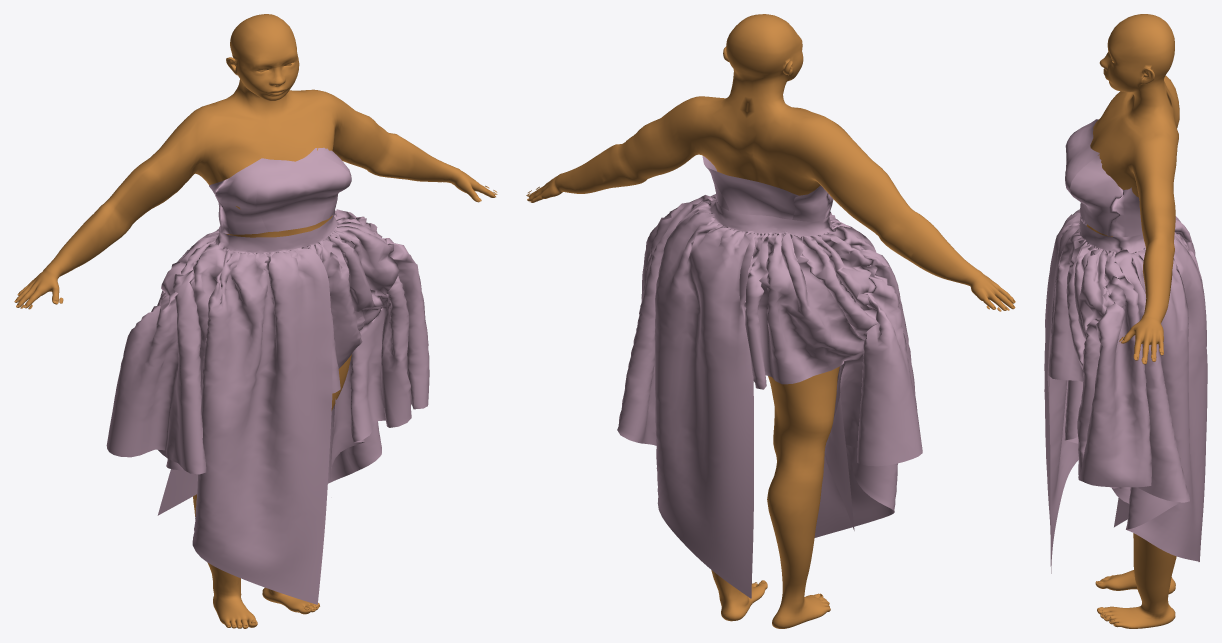
The model's file is dress8.glb.
3 renders of one model, left to right at view 1: azimuth 30°, elevation 25°; view 2: azimuth 150°, elevation 25°; view 3: azimuth 270°, elevation 25°, orthographic.
Visible parts, largest first — view 1: Project 1, Body; view 2: Project 1, Body; view 3: Project 1, Body.
Boxes of the visible parts, box(x1,y1,x2,y2) form: Project 1: box(106, 147, 429, 604); Body: box(14, 14, 495, 628); Project 1: box(617, 156, 922, 598); Body: box(527, 14, 1015, 628); Project 1: box(1044, 119, 1207, 573); Body: box(1086, 14, 1179, 628).
Bounding box in the file's own units: 1.59 × 1.88 × 0.4668.
